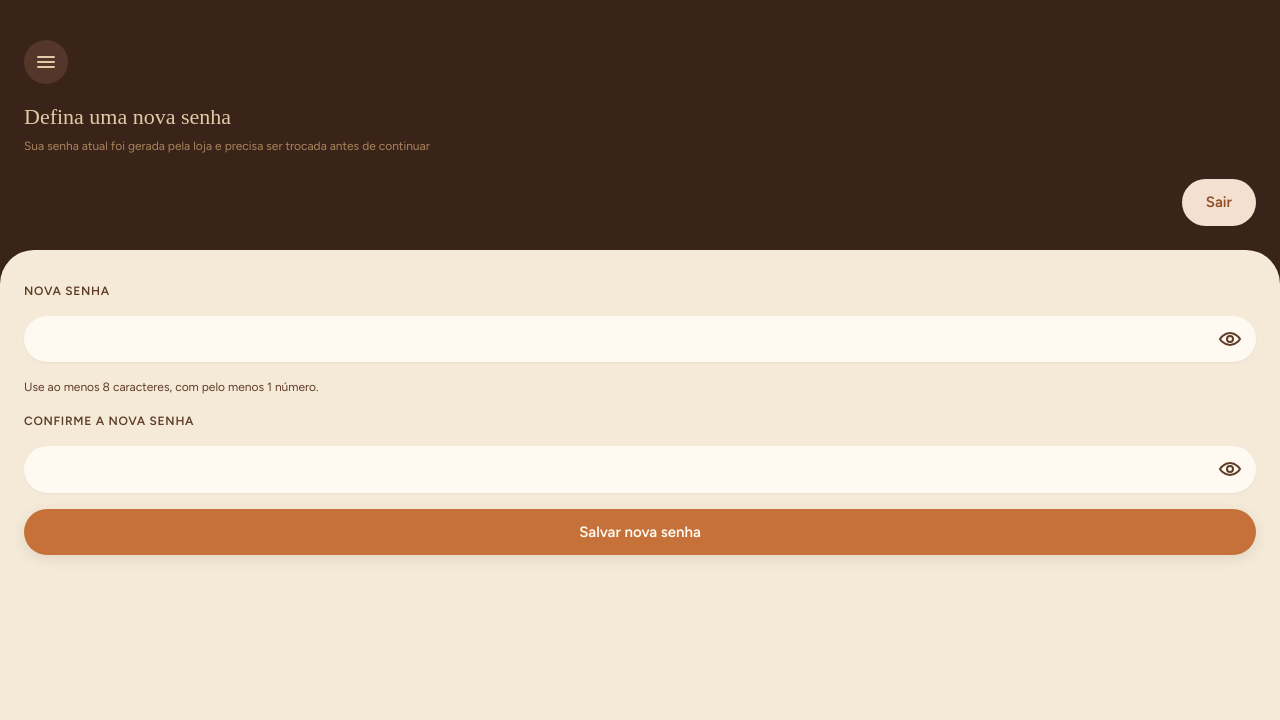
Test: ChangePasswordScreen › UT-049: confirmação diferente da nova senha bloqueia o envio
Type "chocolate1" into the password field labelled "Nova senha".
click(640, 339); type("chocolate1")  # box left=24, top=316, right=1256, bottom=362
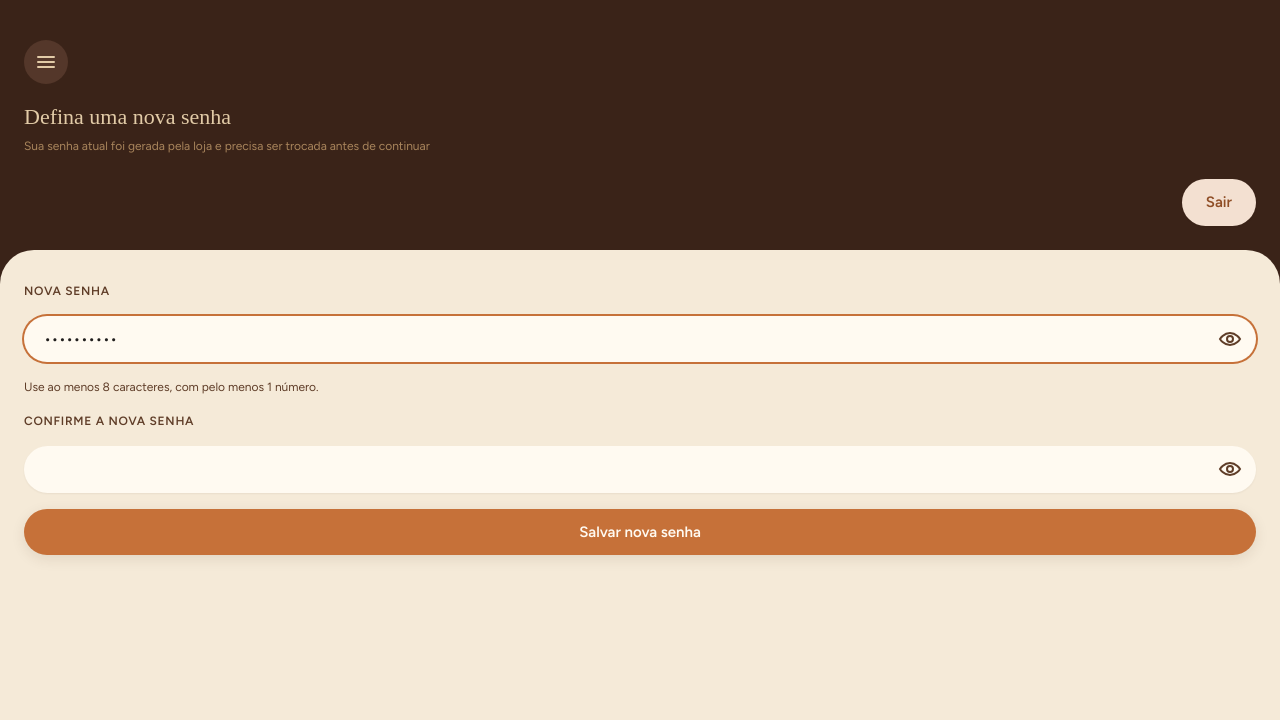
Type "chocolate2" into the password field labelled "Confirme a nova senha".
click(640, 469); type("chocolate2")  # box left=24, top=446, right=1256, bottom=492
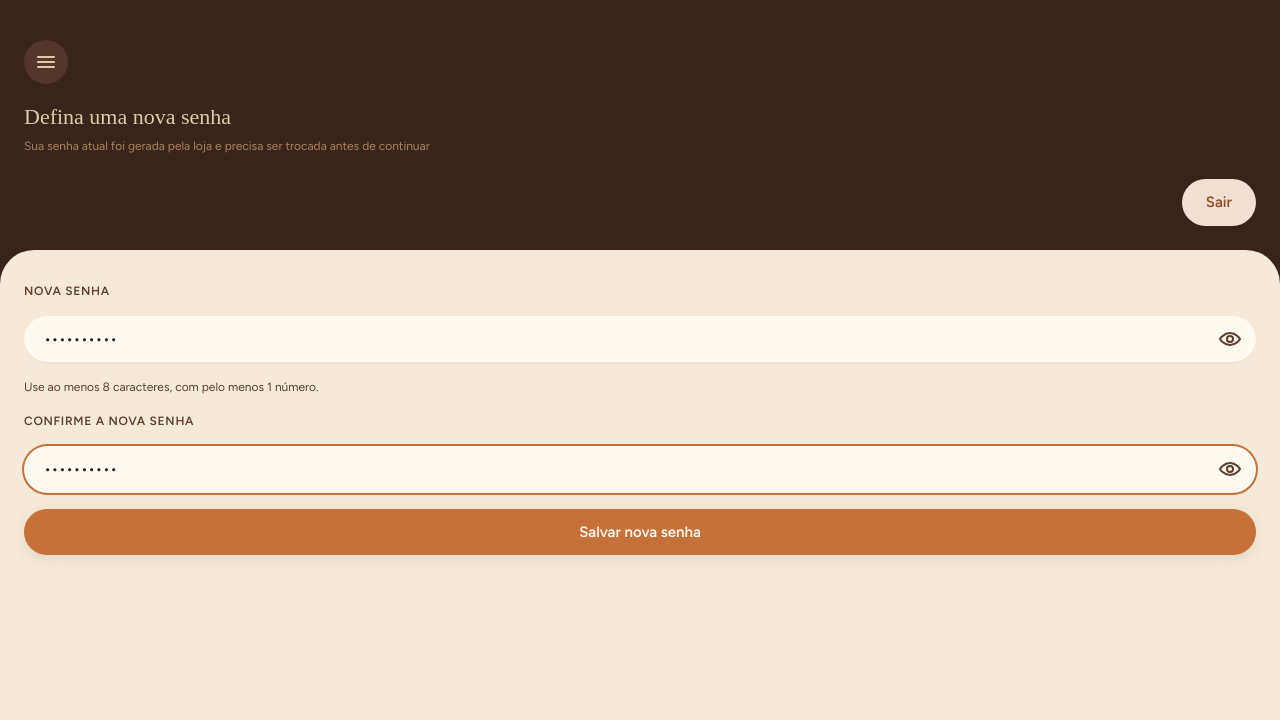
Click the button "Salvar nova senha".
click(640, 532)  # box left=24, top=508, right=1256, bottom=555
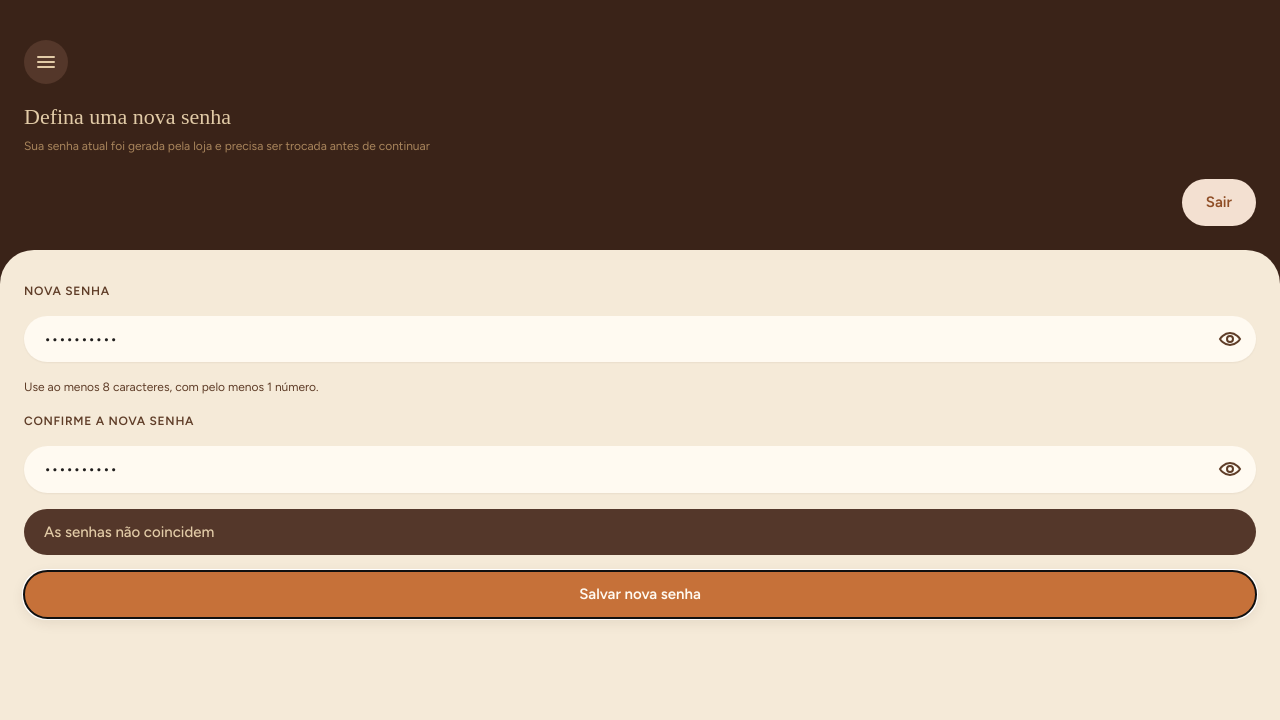
Expected: the message reads "As senhas não coincidem", left=44, top=522, right=214, bottom=540
